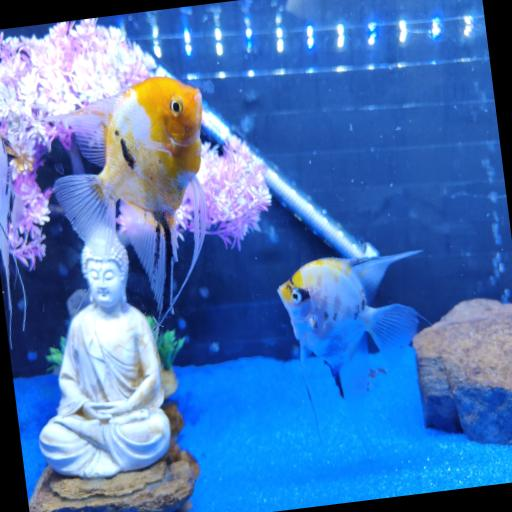Fish: (45, 77, 205, 315), (277, 251, 421, 406), (0, 131, 24, 348)
